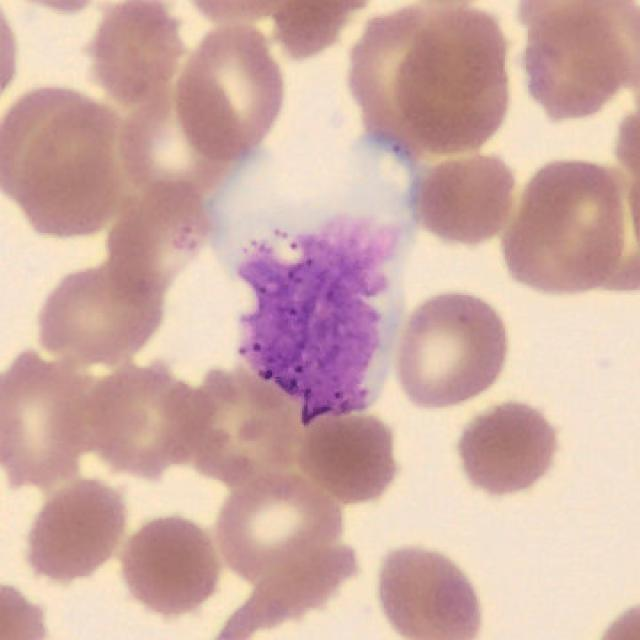Linfocito: (229, 133, 416, 425)
